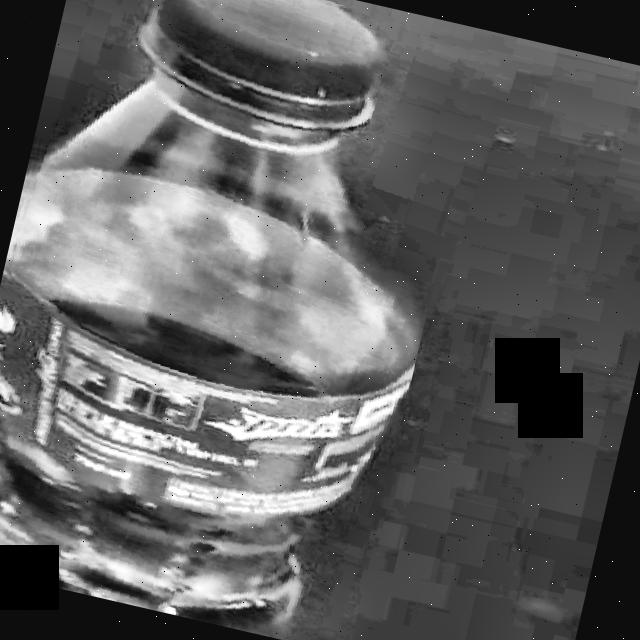bottle: (0, 0, 420, 637)
